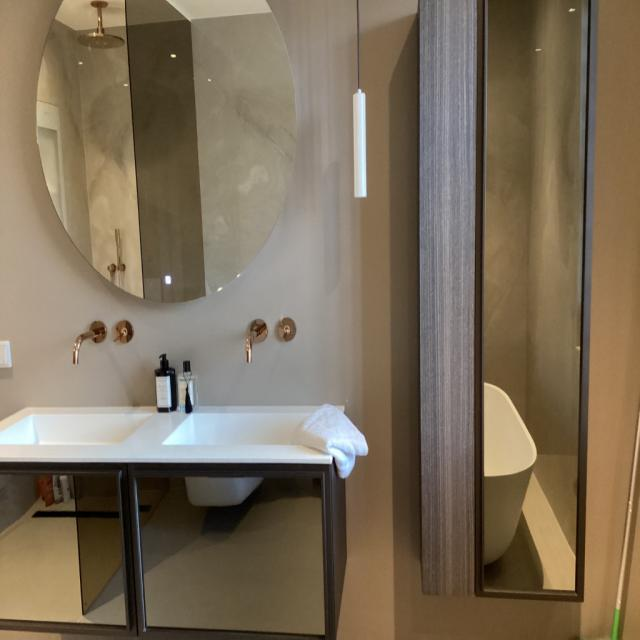bath: (484, 378, 540, 567)
wastafel: (0, 460, 347, 640), (0, 314, 349, 462)
